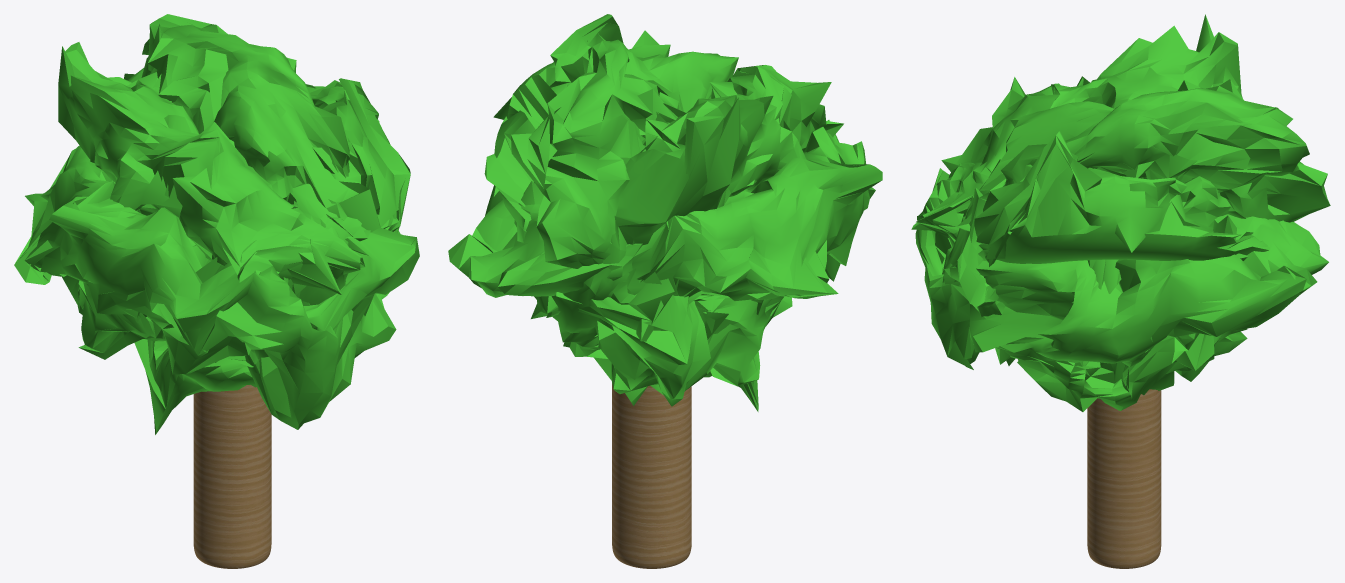
Rendered from tree.glb.
3 renders of one model, left to right at view 1: azimuth 30°, elevation 25°; view 2: azimuth 150°, elevation 25°; view 3: azimuth 270°, elevation 25°, orthographic. The views are drawn at different scales.
Parts seen in each view (by area): view 1: Torus 3, Torus 2, Torus, Torus 1, stump; view 2: Torus 3, Torus 2, Torus, Torus 1, stump; view 3: Torus 3, Torus 2, Torus 1, Torus, stump.
Part boxes in pixels (x1,y1,x2,y2): Torus 3: (14,145,400,429); Torus 2: (124,14,419,434); Torus: (58,42,374,315); Torus 1: (62,78,410,367); stump: (193,385,271,568); Torus 3: (448,120,882,341); Torus 2: (511,30,792,411); Torus: (531,65,843,380); Torus 1: (484,14,783,406); stump: (612,383,691,568); Torus 3: (915,76,1328,369); Torus 2: (942,79,1330,381); Torus 1: (911,131,1269,293); Torus: (916,14,1247,411); stump: (1087,389,1161,568).
Size of the model in its own units: 0.1317 by 0.1798 by 0.1419.
5 materials, 1 textured.
